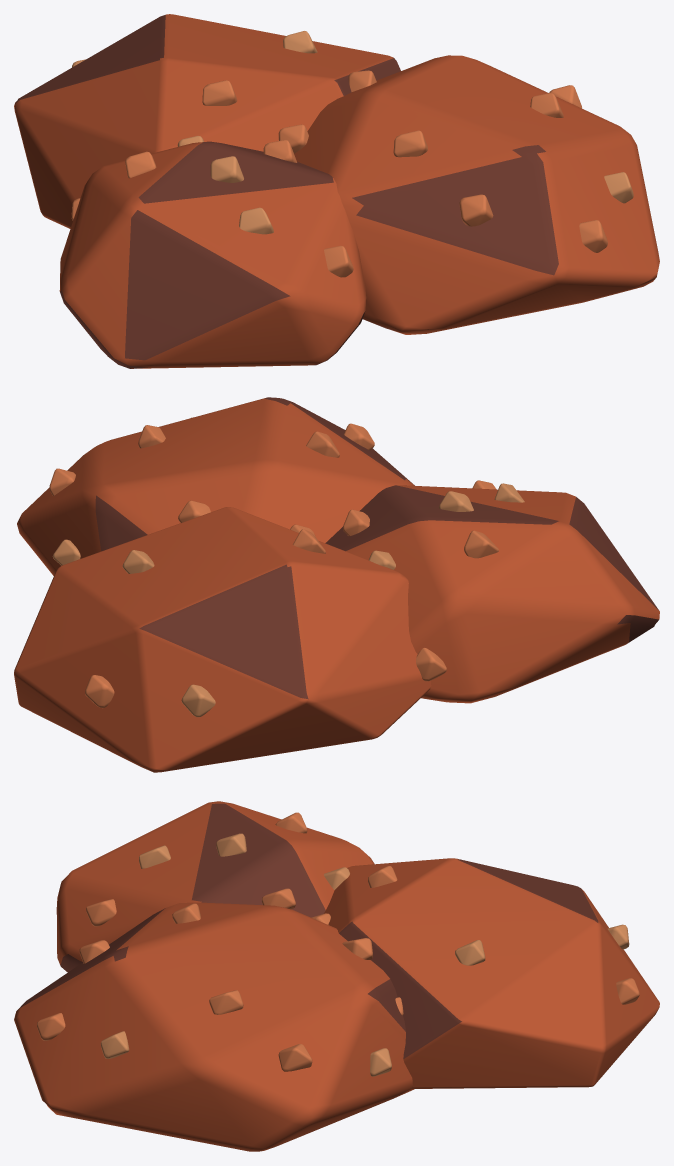
File: minerai_bauxite_2.glb
3 renders of one model, top to bottom at view 1: azimuth 30°, elevation 25°; view 2: azimuth 150°, elevation 25°; view 3: azimuth 270°, elevation 25°, orthographic. The views are drawn at different scales.
Visible parts, largest first — view 1: minerai_bauxite.004, minerai_brique_sombre.004, minerai_bauxite_clair.004, minerai_gres_clair.004; view 2: minerai_bauxite.004, minerai_brique_sombre.004, minerai_bauxite_clair.004, minerai_gres_clair.004; view 3: minerai_bauxite.004, minerai_brique_sombre.004, minerai_bauxite_clair.004, minerai_gres_clair.004.
Part boxes in pixels (x1,y1,x2,y2): minerai_bauxite.004: [14, 14, 659, 368]; minerai_brique_sombre.004: [15, 15, 558, 368]; minerai_bauxite_clair.004: [71, 70, 607, 277]; minerai_gres_clair.004: [72, 31, 633, 234]; minerai_bauxite.004: [14, 397, 659, 772]; minerai_brique_sombre.004: [95, 397, 658, 699]; minerai_bauxite_clair.004: [49, 423, 498, 708]; minerai_gres_clair.004: [52, 417, 524, 717]; minerai_bauxite.004: [14, 801, 659, 1151]; minerai_brique_sombre.004: [17, 803, 598, 1058]; minerai_bauxite_clair.004: [37, 812, 639, 1071]; minerai_gres_clair.004: [100, 833, 629, 1076].
Size of the model in its own units: 0.5309 by 0.1299 by 0.5374.
